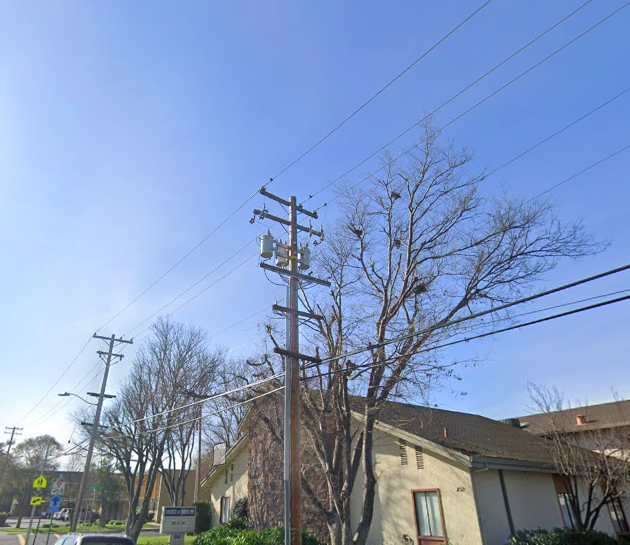utility_pole: (245, 176, 338, 297)
